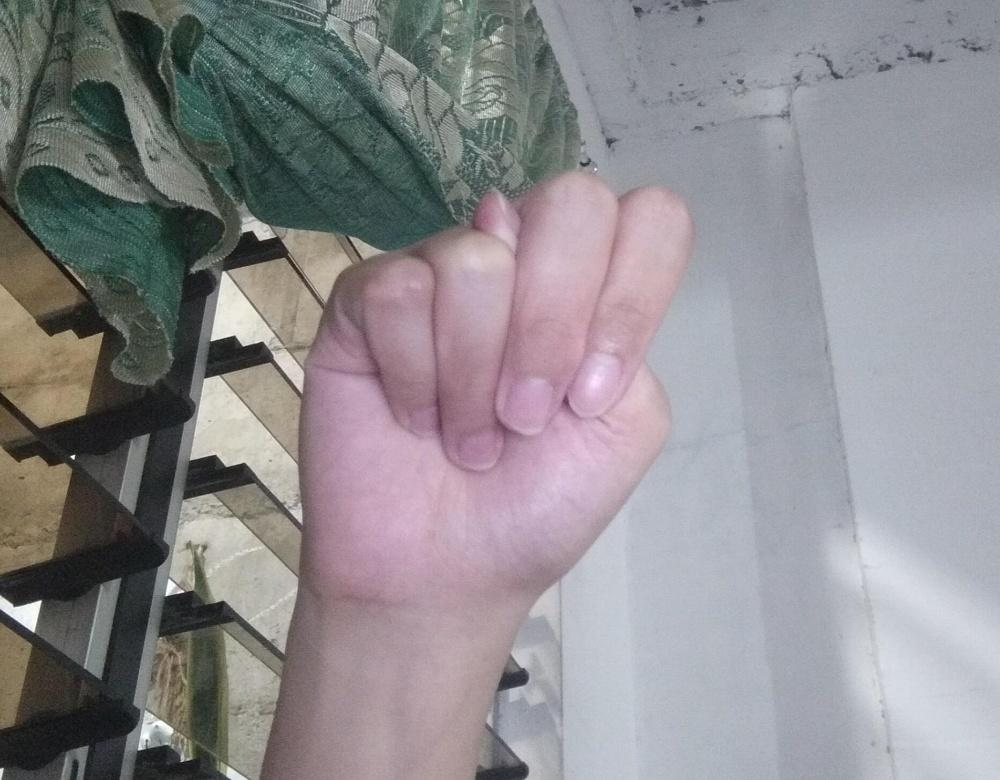n: (295, 168, 698, 608)
